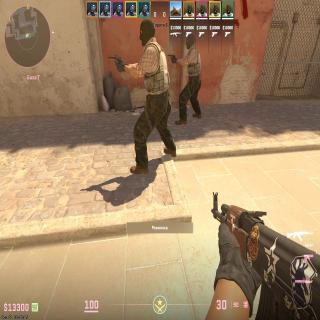T-Body: (138, 19, 172, 166), (184, 34, 202, 119)
T-Head: (140, 20, 155, 44), (186, 34, 194, 48)
